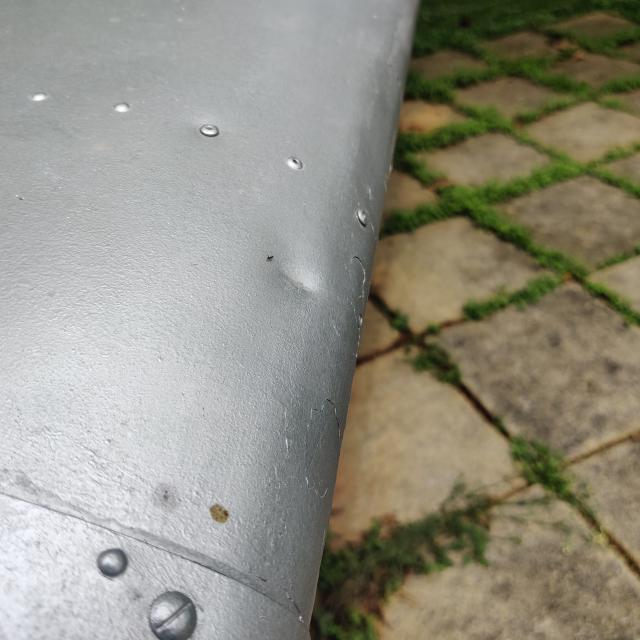Dent: (240, 218, 354, 321)
